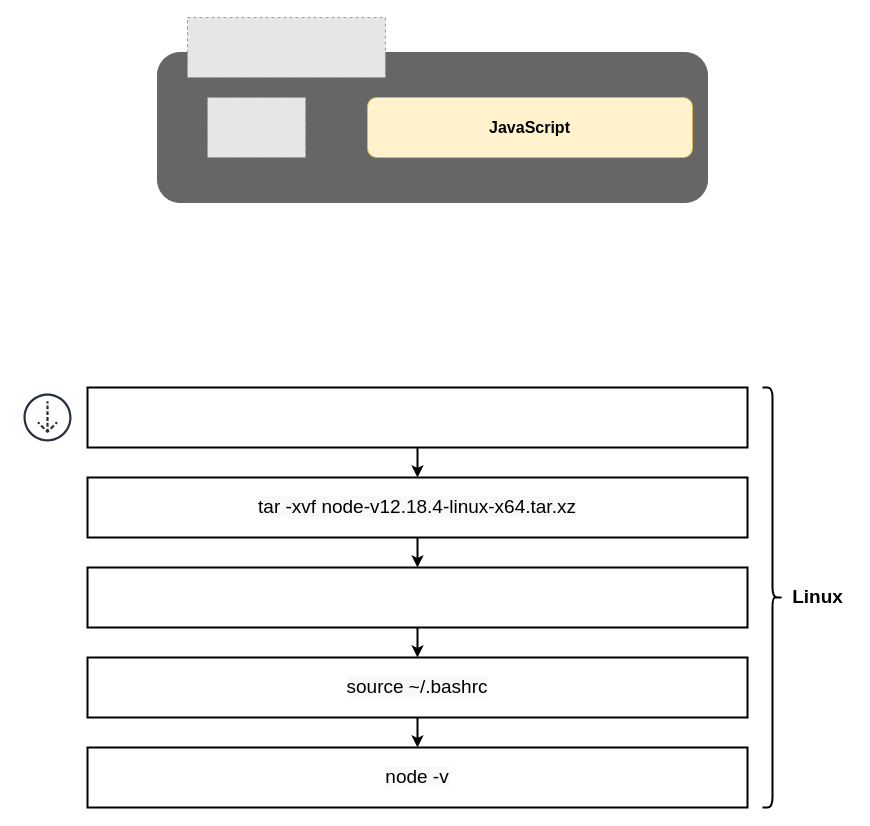
Image size: 870x826. Some labels were removed from this diagram. Grey dashed boxes stand in for pictures. Here are the shapes that lost their labels. From the top down, the centre of each, then its label:
At [417,417]: "wget https://nodejs.org/dist/v12.18.4/node-v12.18.4-linux-x64.tar.xz".
At [417,597]: "echo 'export PATH='`pwd`'/node-v12.18.4-linux-x64/bin:$PATH' >> ~/.bashrc".
